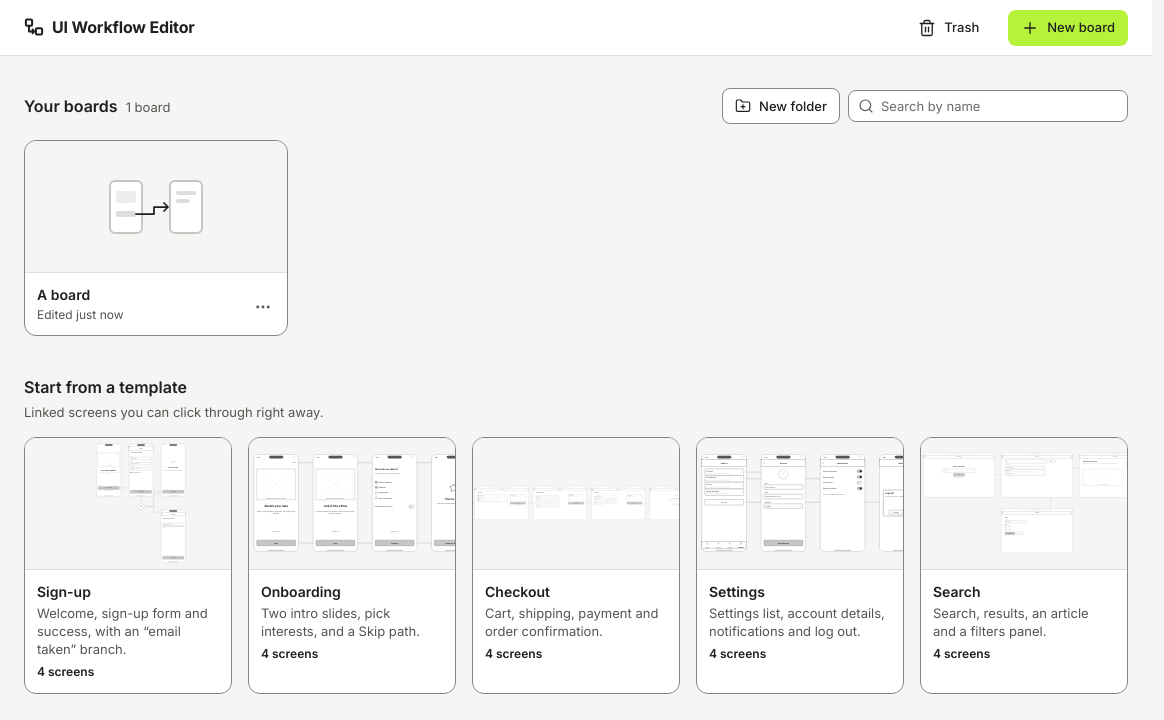
Test: Folders and Trash › New folder adds a tile in rename mode
The image size is (1164, 720).
Click the button with test id "new-folder" at (781, 106), box [722, 88, 840, 124]
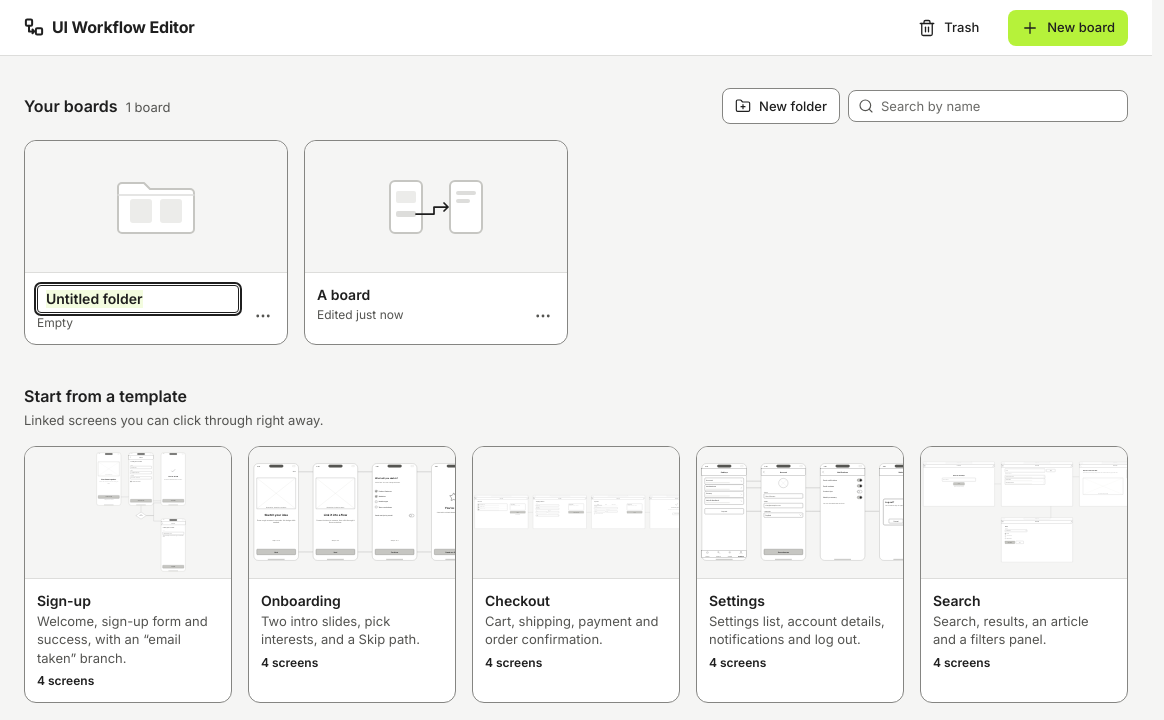
Replace the text in the field named "Folder name" with "Q3 ideas" at (138, 299), box [37, 285, 239, 313]
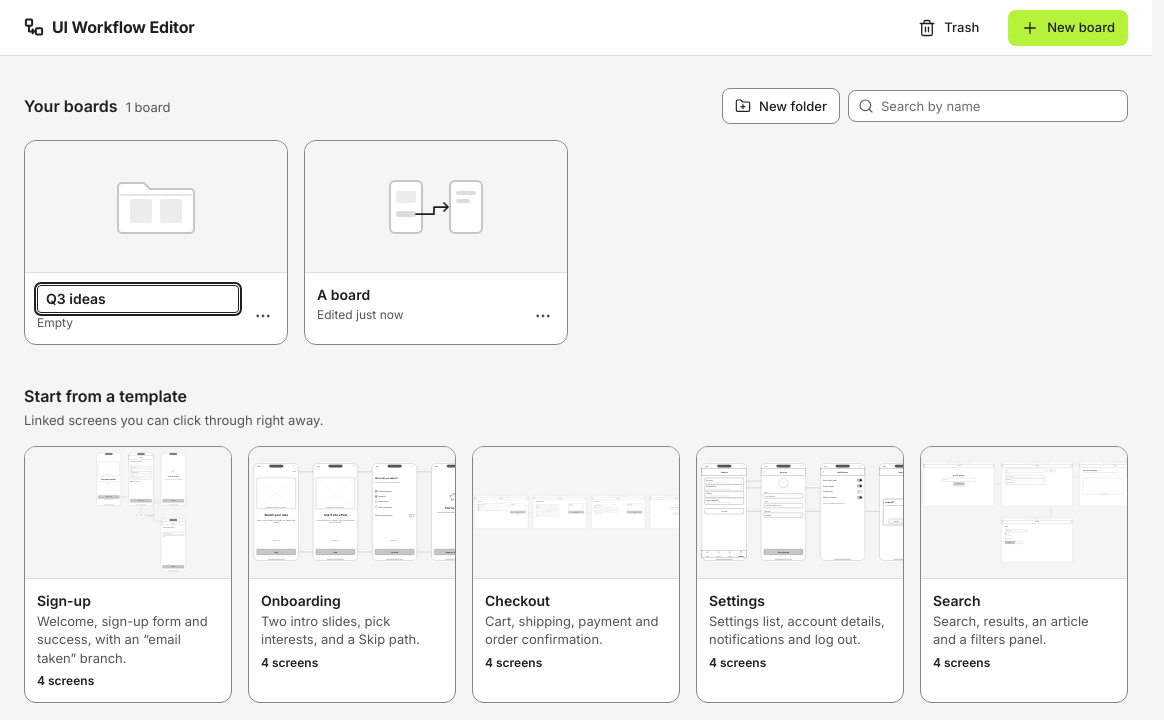
Press Enter in the field named "Folder name", box [37, 285, 239, 313]
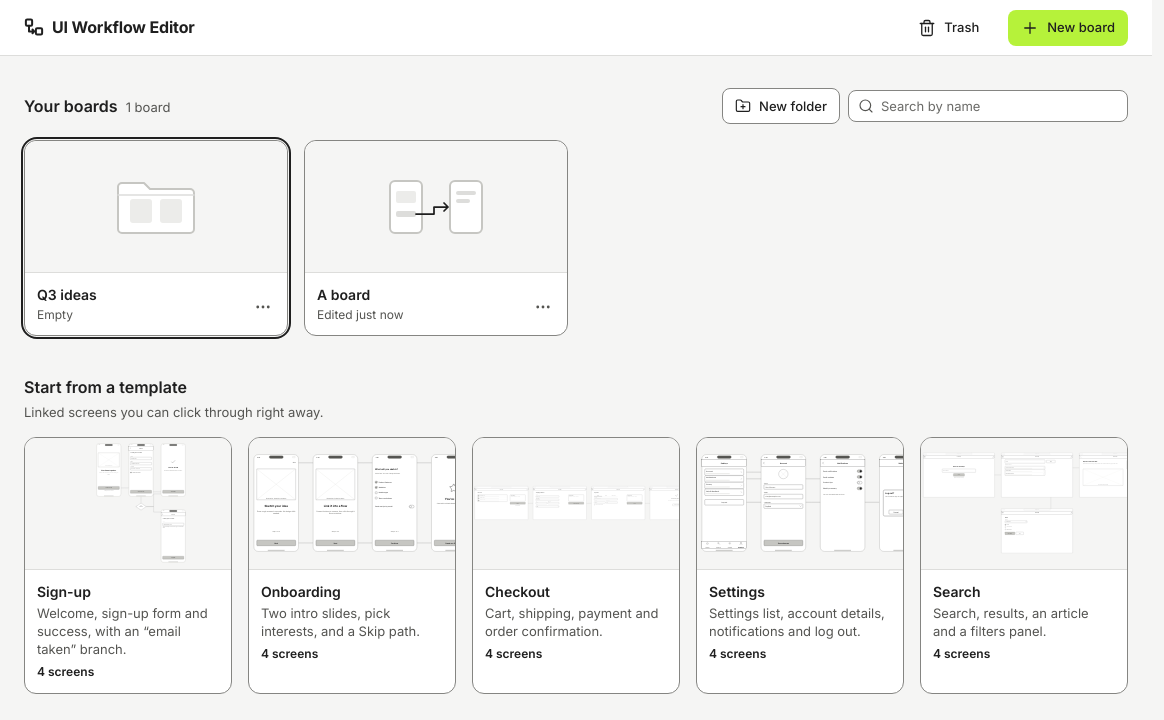
Check: the link "Q3 ideas Empty" is shown, box [25, 141, 287, 335]
